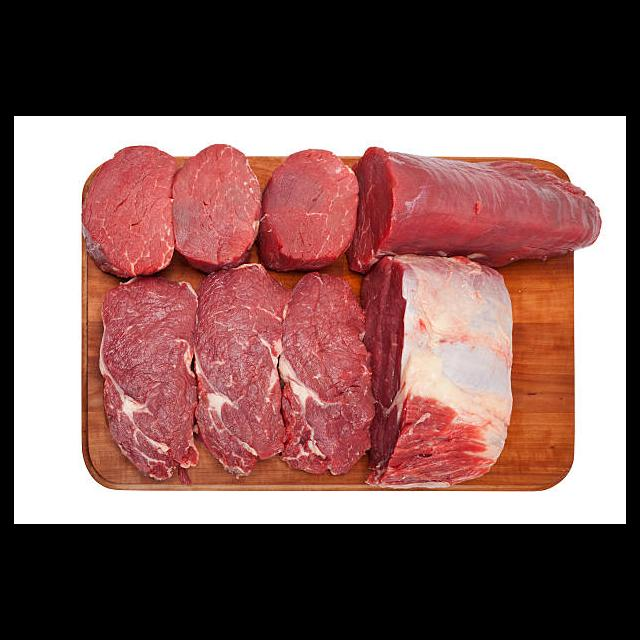beef: (98, 259, 379, 486), (362, 252, 515, 486), (351, 147, 602, 273), (81, 146, 179, 277), (169, 144, 263, 275), (261, 149, 350, 273)
